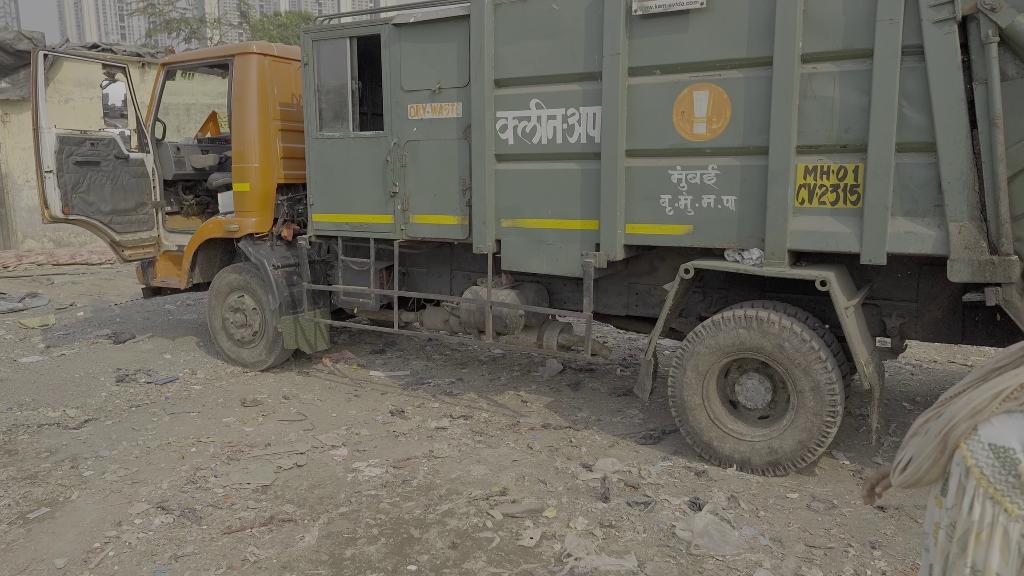garbage: (673, 509, 753, 562), (17, 314, 61, 331), (110, 330, 139, 345), (19, 353, 51, 365)
